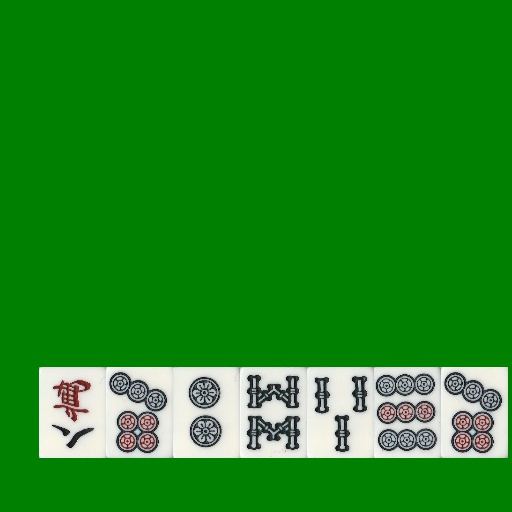2p: (173, 367, 240, 458)
3s: (307, 367, 374, 458)
7p: (106, 367, 173, 458), (441, 367, 508, 458)
8m: (39, 367, 106, 458)
8s: (240, 367, 307, 458)
9p: (374, 367, 441, 458)
